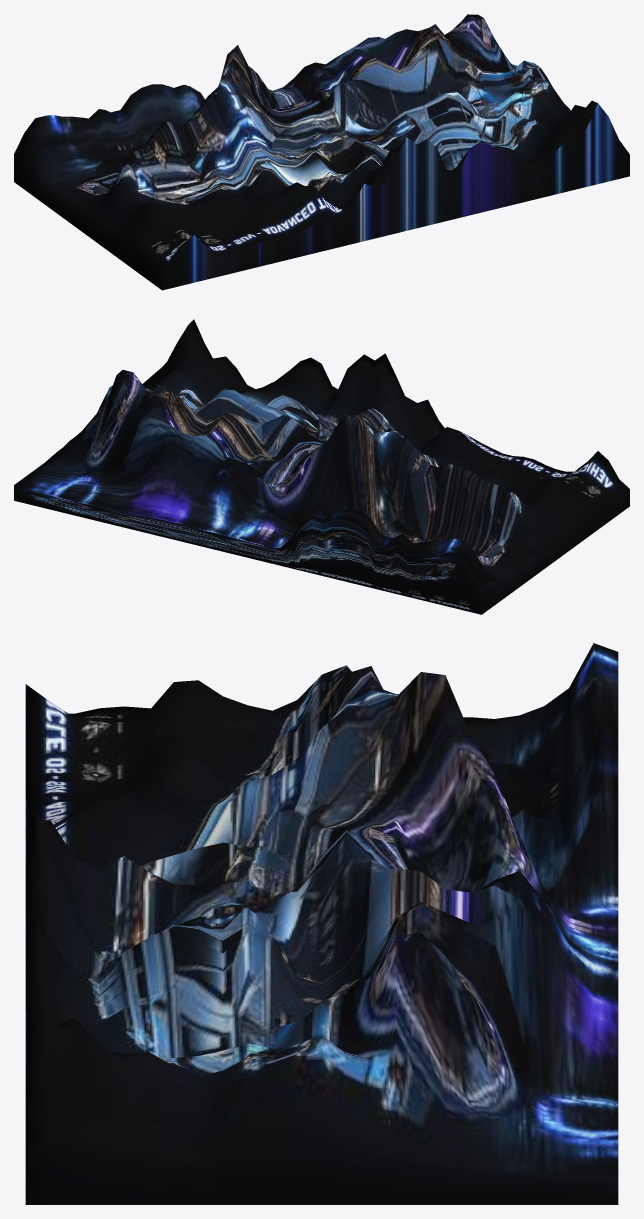
File: VEHICLE_05_SUV.glb
3 views of the same model, one above another, from view 1: azimuth 30°, elevation 25°; view 2: azimuth 150°, elevation 25°; view 3: azimuth 270°, elevation 25° (orthographic). The views are drawn at different scales.
Visible parts, largest first — view 1: VEHICLE_05_SUV; view 2: VEHICLE_05_SUV; view 3: VEHICLE_05_SUV.
Boxes of the visible parts, left/top/right/bottom form: VEHICLE_05_SUV: left=14, top=14, right=629, bottom=290; VEHICLE_05_SUV: left=14, top=319, right=629, bottom=614; VEHICLE_05_SUV: left=25, top=643, right=618, bottom=1204.
Bounding box in the file's own units: 2 × 0.51 × 1.1.
Materials: 1 (1 with a texture image).
